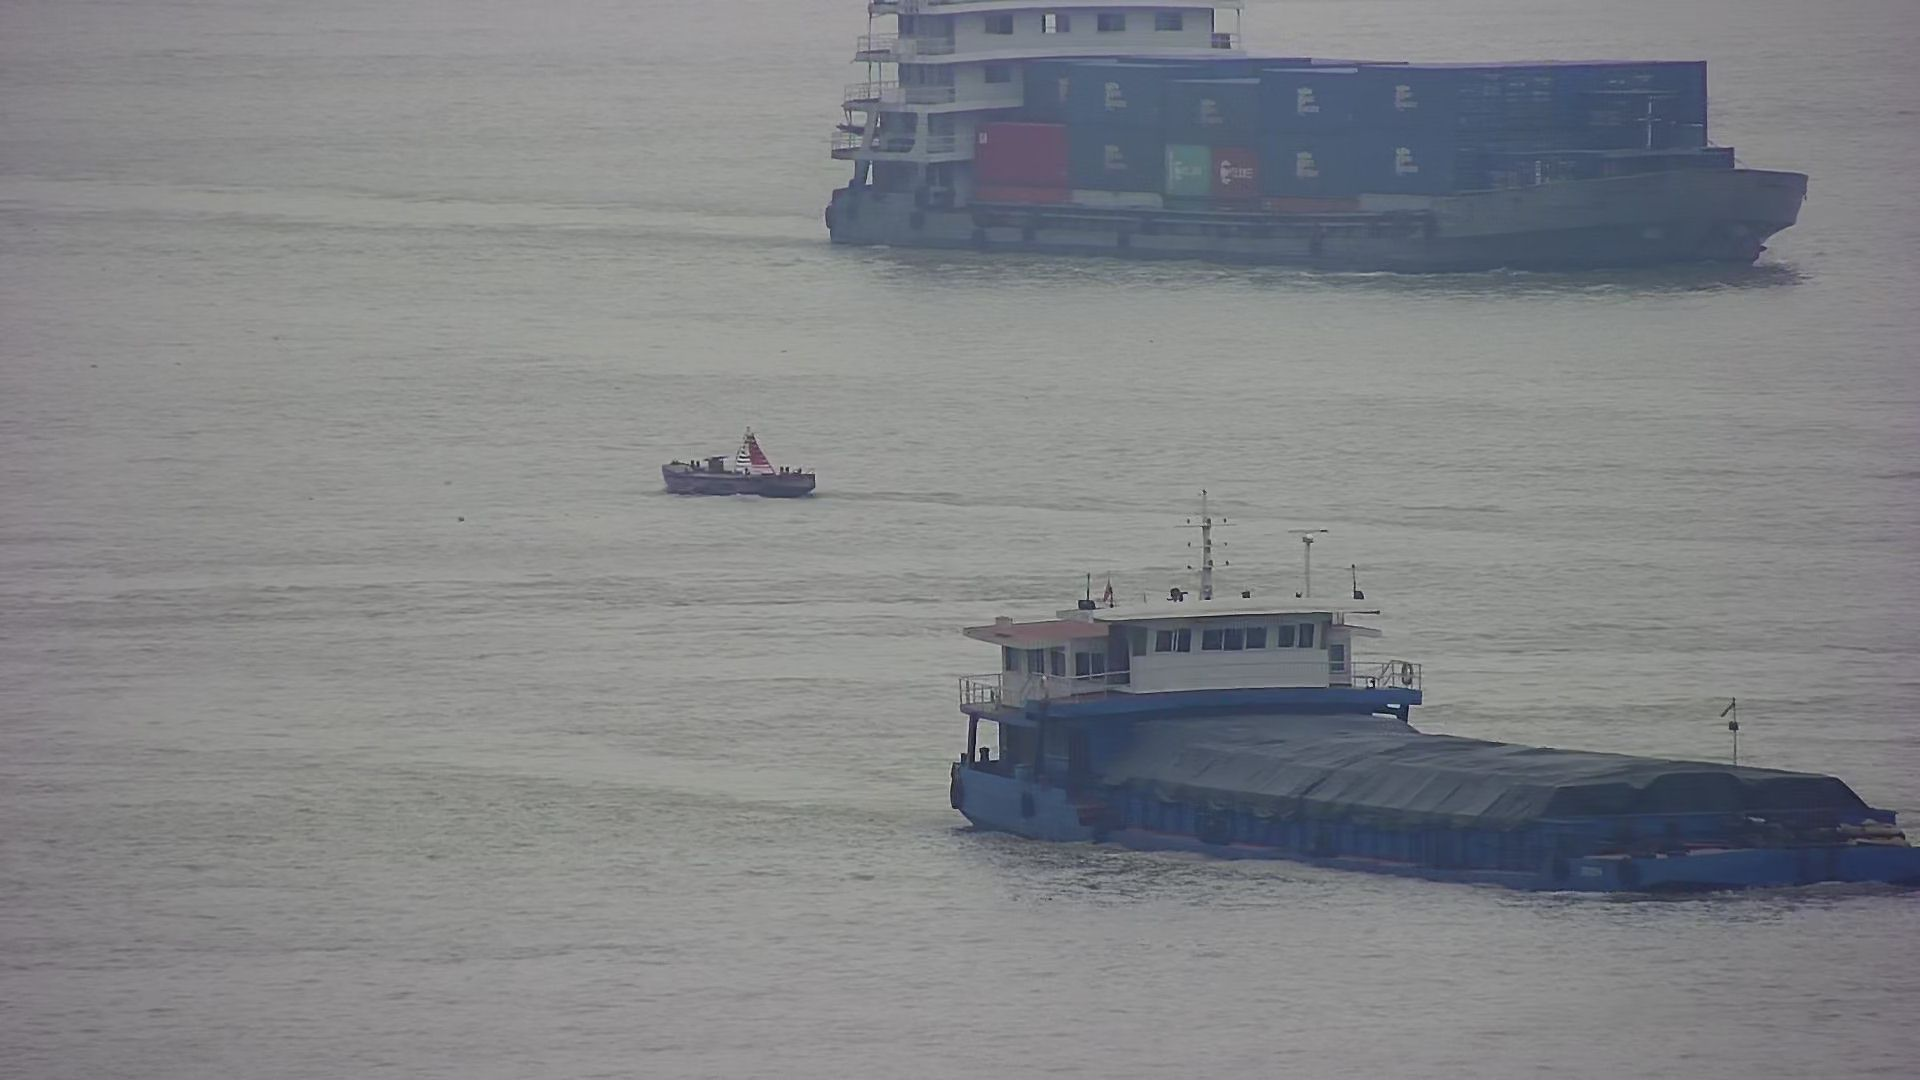boat: (659, 427, 825, 498)
ship: (942, 488, 1920, 893), (829, 3, 1822, 280)
